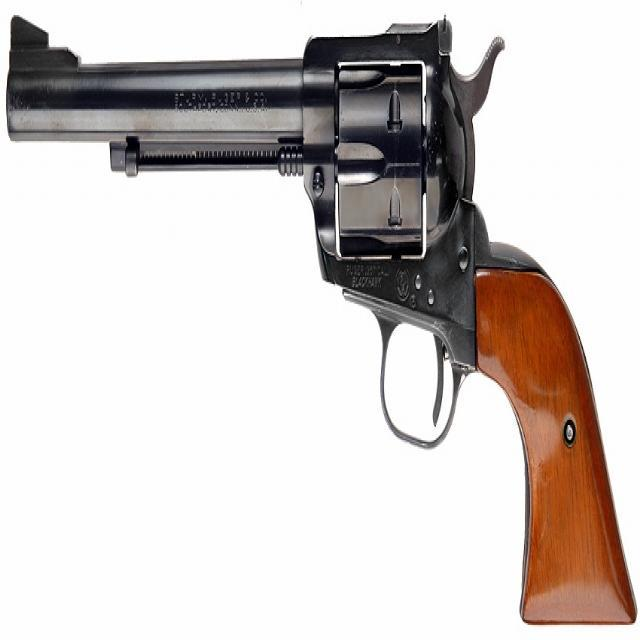gun-knife-thesis - v11 Yolov5 augmented: (5, 10, 639, 630)
